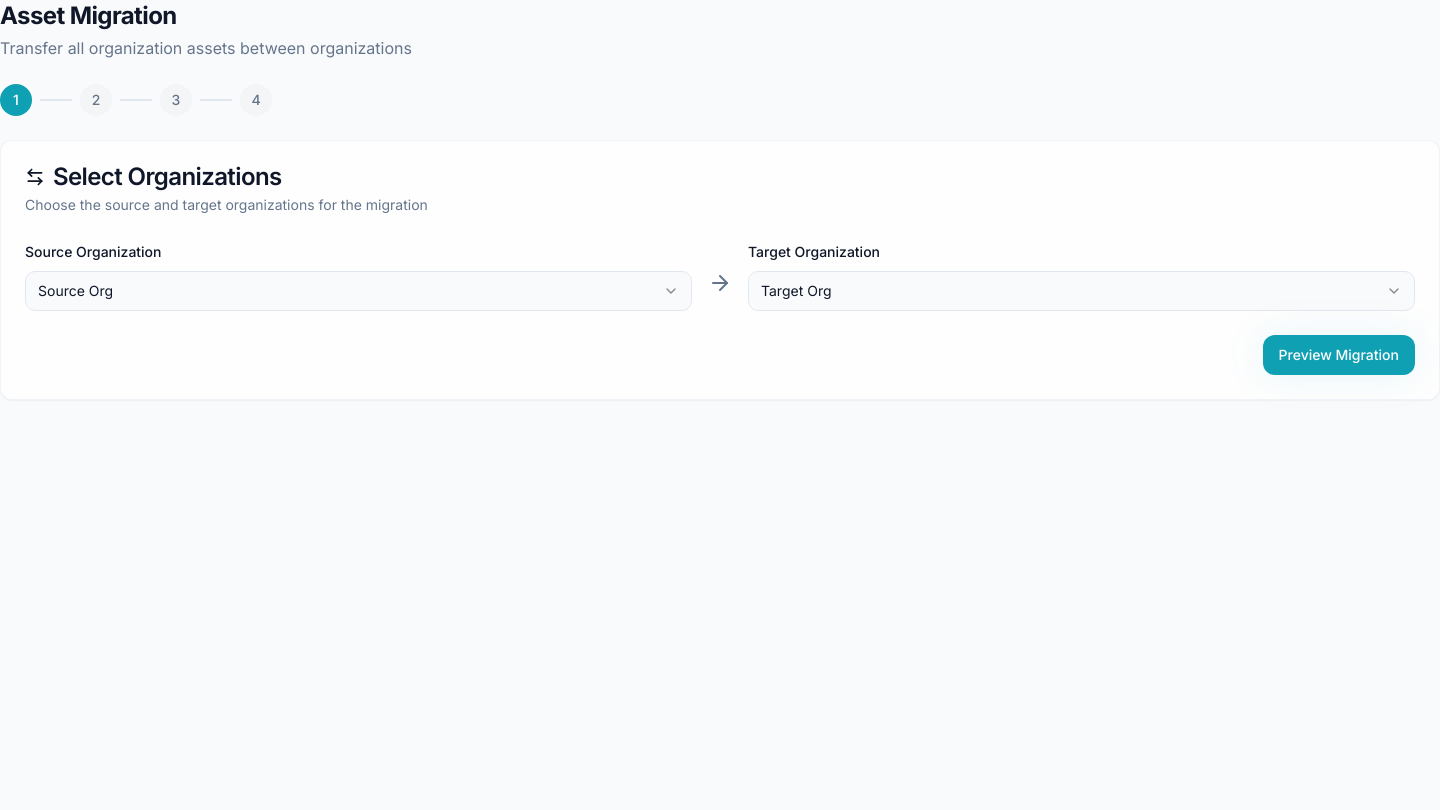
Test case: AssetMigration › executes migration with full-category mode for truncated selections
The image size is (1440, 810).
expect the heading "Asset Migration" is shown: met, box [0,1,177,30]
Click the button "Preview Migration". click: click(1339, 355)
box: [1262,335,1415,375]
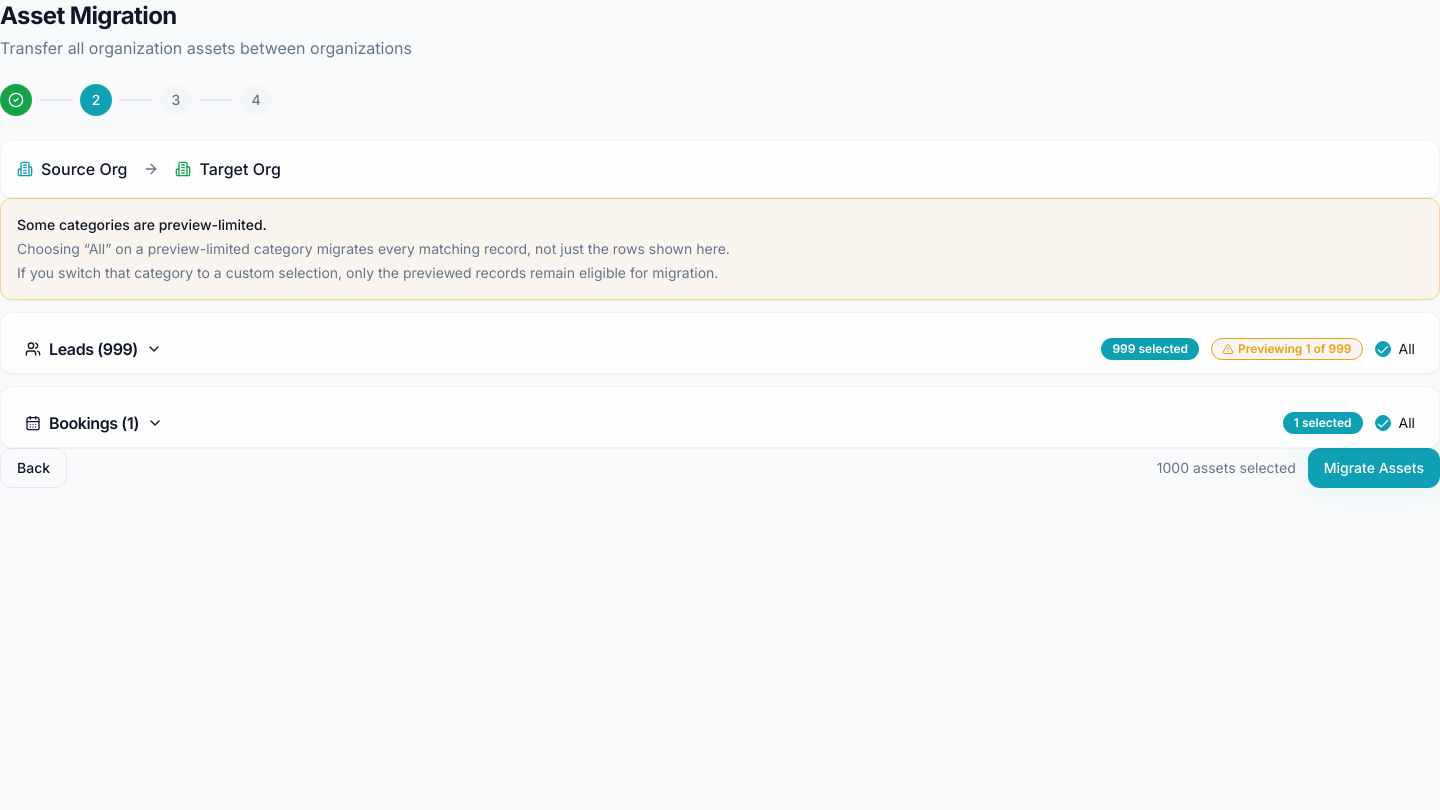
expect the text "1000 assets selected" is shown: met, box [1157,458,1296,478]
Click the button "Migrate Assets". click: click(1374, 468)
box: [1308,448,1439,488]
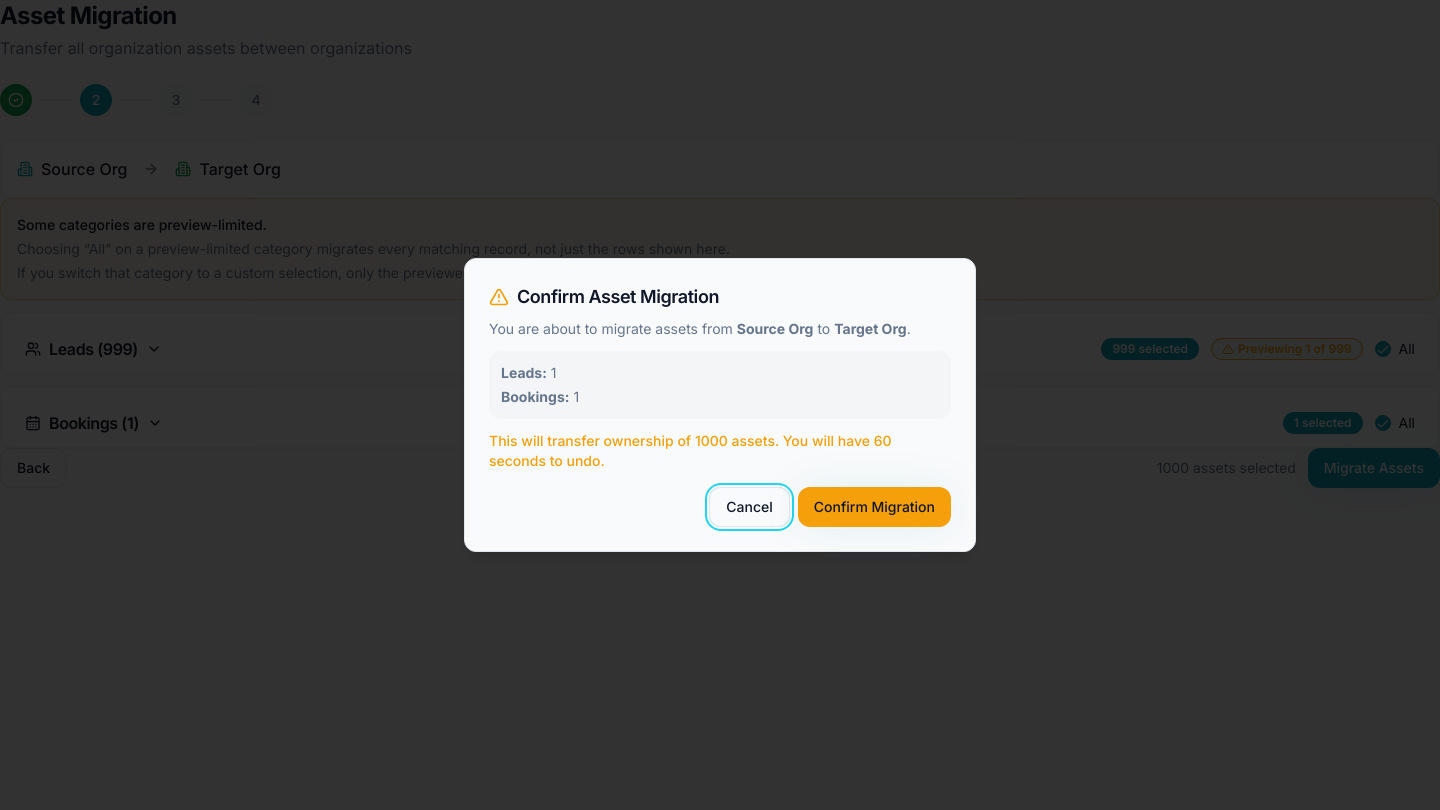
Click the button "Confirm Migration". click: click(874, 507)
box: [798,487,951,527]
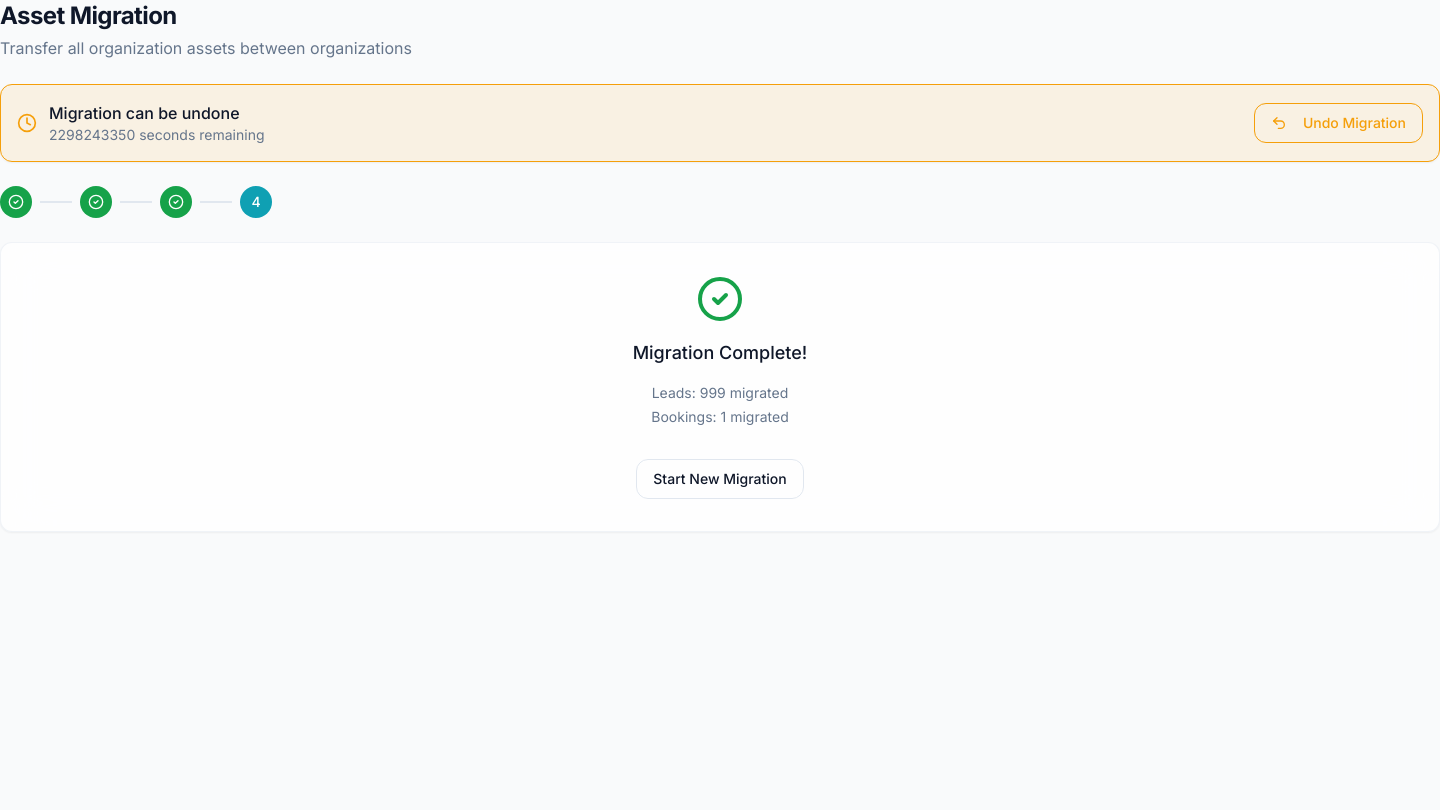
expect the text "Migration Complete!" is shown: met, box [633,339,807,367]
expect the text "Leads: 999 migrated" is shown: met, box [652,384,788,401]
expect the text "Bookings: 1 migrated" is shown: met, box [651,408,789,425]
